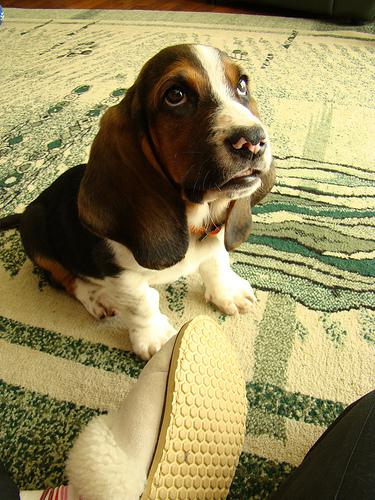dog-basset_hound: (76, 42, 275, 268)
